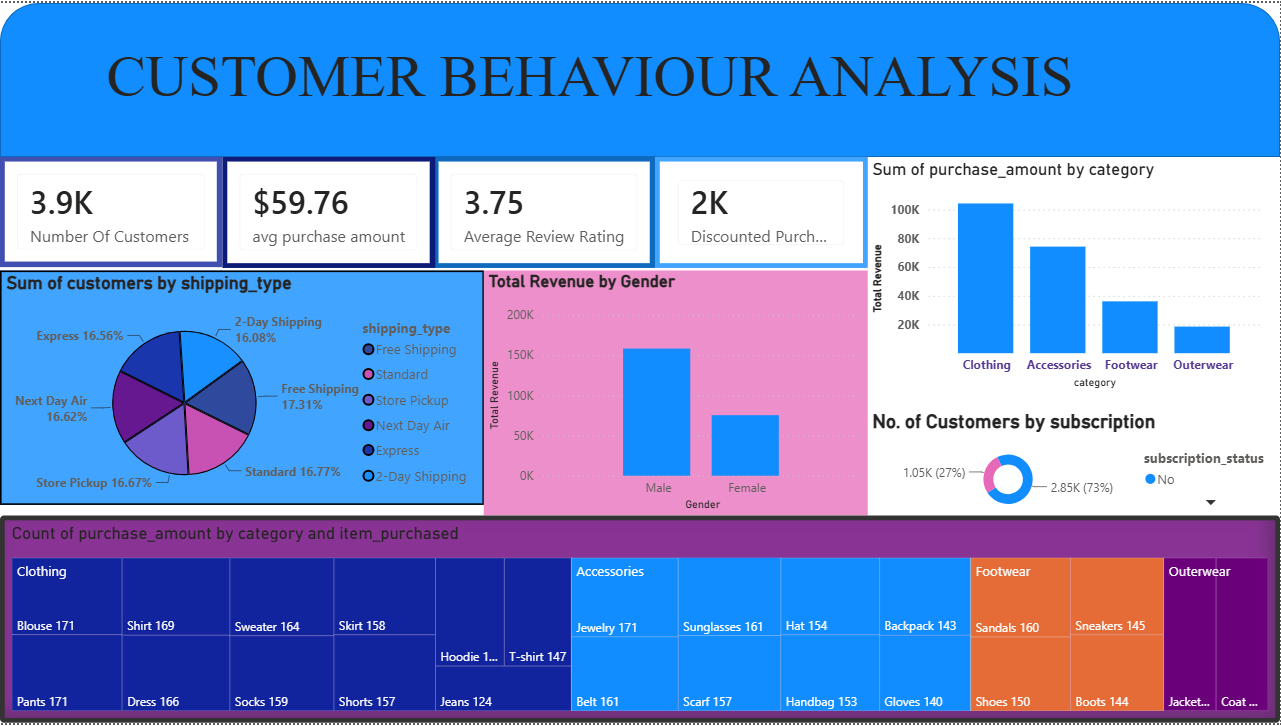

The page's visual inventory and layout, read from the dashboard file:
{"tool":"powerbi","page":{"name":"Page 1","canvas":[1280,720],"ordinal":0},"visuals":[{"type":"cardVisual","fields":{"Data":["public customer.Number Of Customers"]},"box":[0,154,222.5,110],"z":0},{"type":"cardVisual","fields":{"Data":["public customer.Average Review Rating"]},"box":[434,154,221.2,111.2],"z":1000},{"type":"cardVisual","fields":{"Data":["public customer.avg purchase amount"]},"box":[222,154,212.5,111.2],"z":2000},{"type":"shape","box":[0,0,1280,154],"z":3000},{"type":"textbox","box":[24,0,1132,136],"z":4000},{"type":"pieChart","title":"Sum of customers by shipping_type","fields":{"Category":["public customer.shipping_type"],"Y":["Count(public customer.customer_id)"]},"box":[0,268,484,234],"z":5000},{"type":"donutChart","title":"No. of Customers by subscription","fields":{"Category":["public customer.subscription_status"],"Y":["Count(public customer.customer_id)"]},"box":[867.5,407.5,412.5,105],"z":6000},{"type":"lineStackedColumnComboChart","fields":{"Y":["Sum(public customer.purchase_amount)"],"Category":["public customer.category"]},"box":[867.5,156.2,398.8,233.8],"z":7000},{"type":"lineStackedColumnComboChart","title":"Total Revenue by Gender","fields":{"Y":["Sum(public customer.purchase_amount)"],"Category":["public customer.gender"]},"box":[483.8,267.5,383.8,245],"z":7001},{"type":"cardVisual","fields":{"Data":["public customer.Discounted Purchases"]},"box":[655,153.8,212.5,111.2],"z":7002},{"type":"treemap","fields":{"Group":["public customer.category"],"Details":["public customer.item_purchased"],"Values":["CountNonNull(public customer.purchase_amount)"]},"box":[0,512.5,1280,207.5],"z":7003}]}

Visuals, with their boxes in screenshot pixels (x1, y1, x2, y2), scaled from the page's 1280x720 canvas onto the 1281x726 screenshot:
cardVisual - public customer.Number Of Customers: 0 155 223 266
cardVisual - public customer.Average Review Rating: 434 155 656 267
cardVisual - public customer.avg purchase amount: 222 155 435 267
shape: 0 0 1280 155
textbox: 24 0 1157 137
"Sum of customers by shipping_type" pieChart: 0 270 484 506
"No. of Customers by subscription" donutChart: 868 411 1280 517
lineStackedColumnComboChart - Sum(public customer.purchase_amount) x public customer.category: 868 158 1267 393
"Total Revenue by Gender" lineStackedColumnComboChart: 484 270 868 517
cardVisual - public customer.Discounted Purchases: 656 155 868 267
treemap - public customer.category x public customer.item_purchased: 0 517 1280 725
